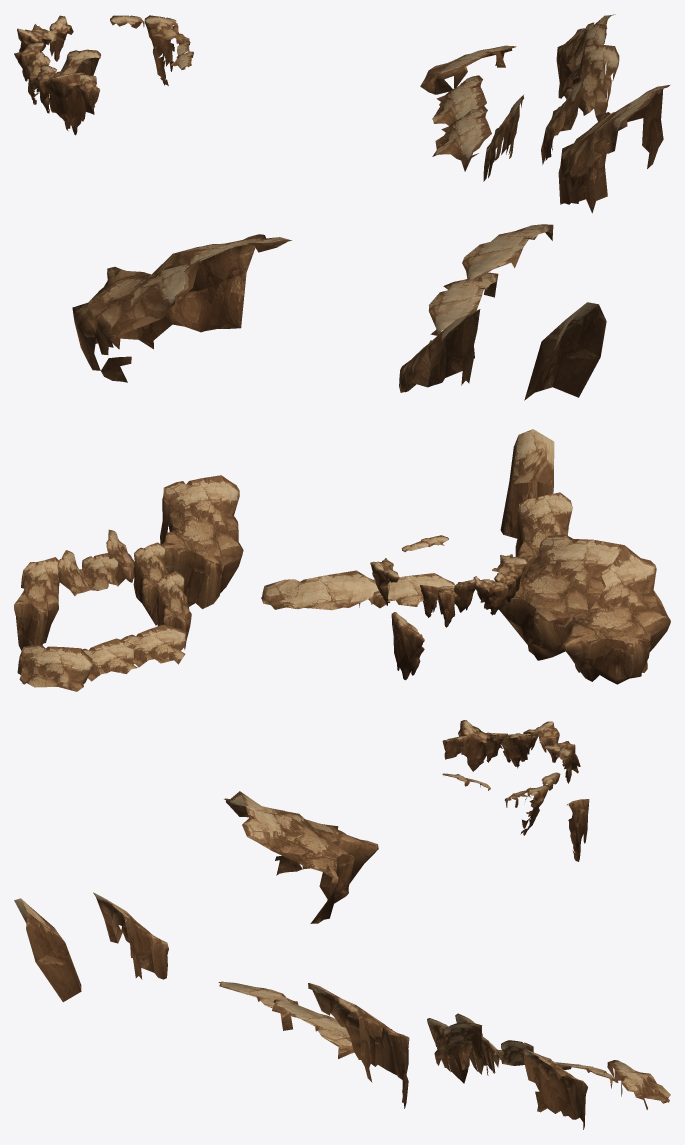
The model's file is s_battle_04_stone.FBX.
3 views of the same model, one above another, from view 1: azimuth 30°, elevation 25°; view 2: azimuth 150°, elevation 25°; view 3: azimuth 270°, elevation 25° (orthographic). The views are drawn at different scales.
Parts seen in each view (by area): view 1: stone; view 2: stone; view 3: stone.
Part boxes in pixels (x1,y1,x2,y2): stone: (14,14,670,400); stone: (14,429,670,691); stone: (14,720,670,1129).
Size of the model in its own units: 246 by 82.09 by 252.
Materials: 1 (1 with a texture image).
